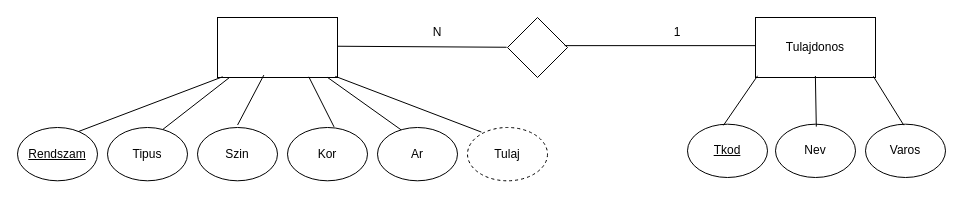
Image size: 963x199. Some labels were removed from this diagram. The box of each missing label's shape, as (x1, y1, x2, y2) in pixels:
Autó: (216, 16, 338, 78)
birtokolja: (506, 16, 568, 78)
